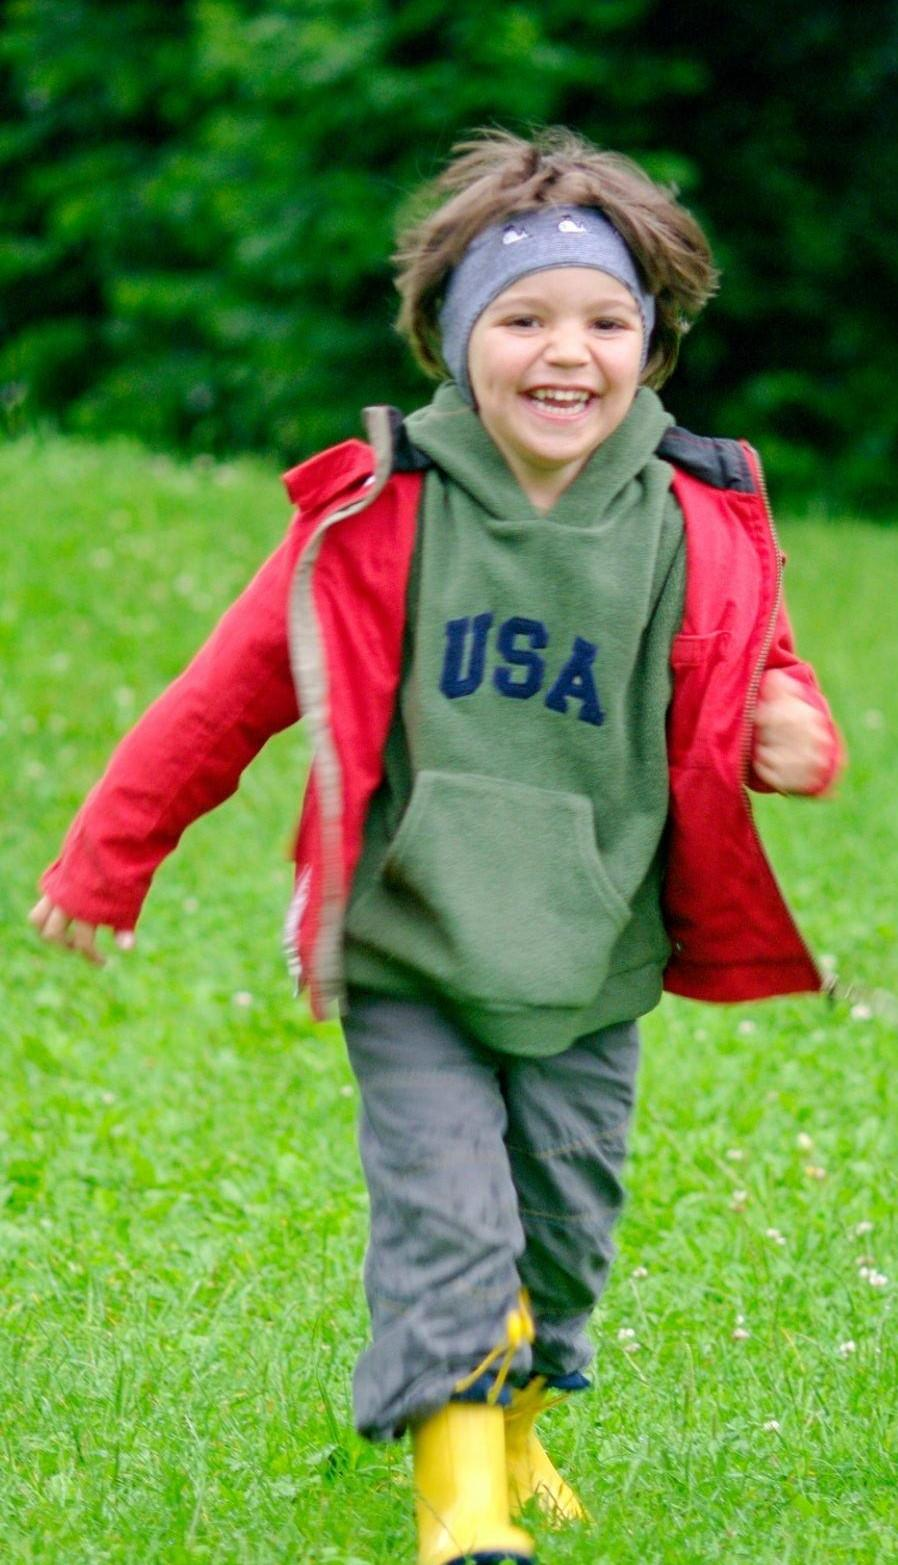Healthy: (472, 261, 644, 505)
